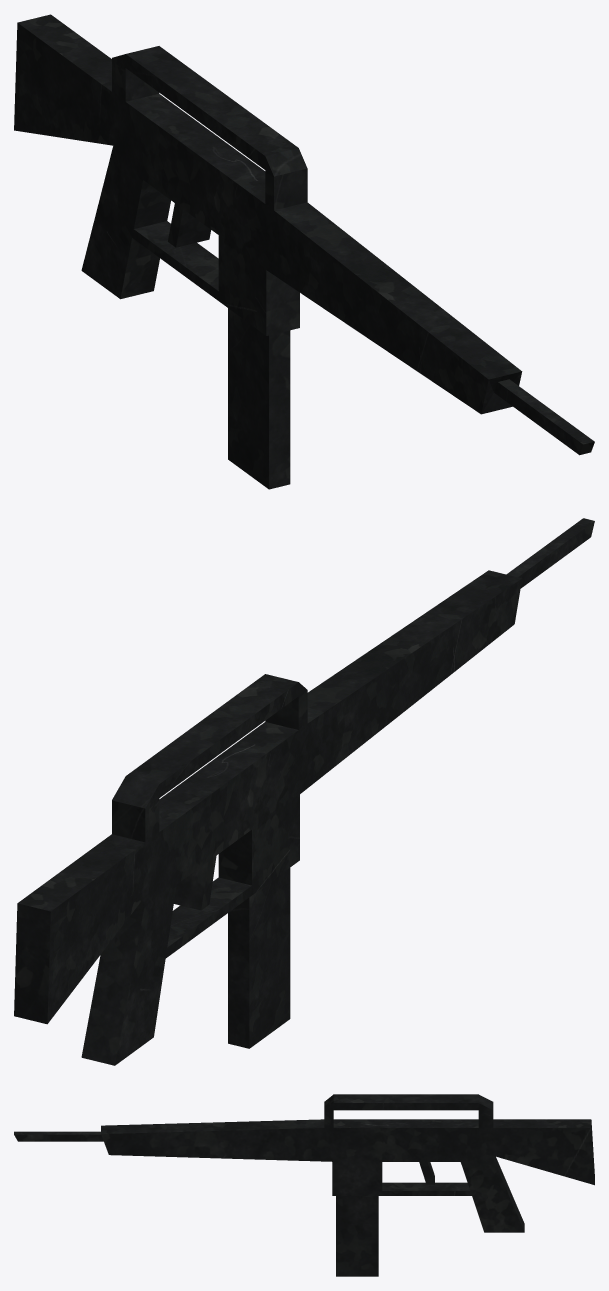
The model's file is Rifle.obj.
3 renders of one model, top to bottom at view 1: azimuth 30°, elevation 25°; view 2: azimuth 150°, elevation 25°; view 3: azimuth 270°, elevation 25°, orthographic. The views are drawn at different scales.
Parts seen in each view (by area): view 1: Pistol_Cube; view 2: Pistol_Cube; view 3: Pistol_Cube.
Part boxes in pixels (left/top/right/bottom): Pistol_Cube: left=14, top=14, right=594, bottom=489; Pistol_Cube: left=14, top=518, right=594, bottom=1065; Pistol_Cube: left=14, top=1094, right=594, bottom=1276.
Bounding box in the file's own units: 0.0807 × 0.7754 × 2.33.
Materials: 1 (1 with a texture image).
